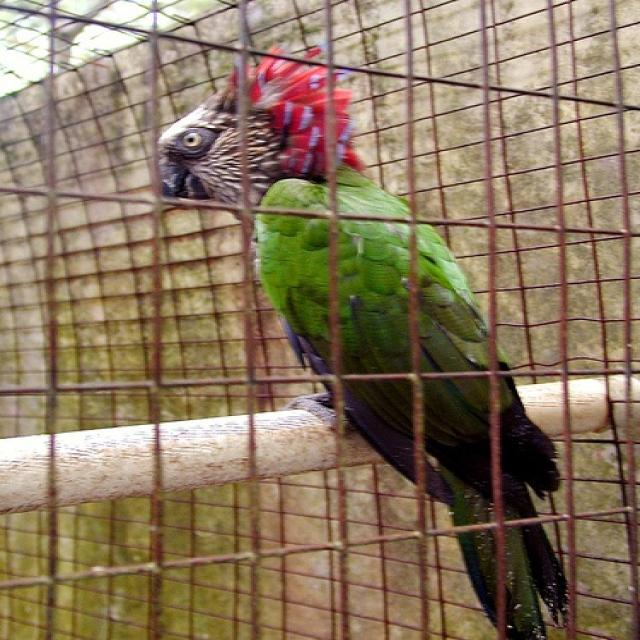bird: (150, 47, 574, 639)
